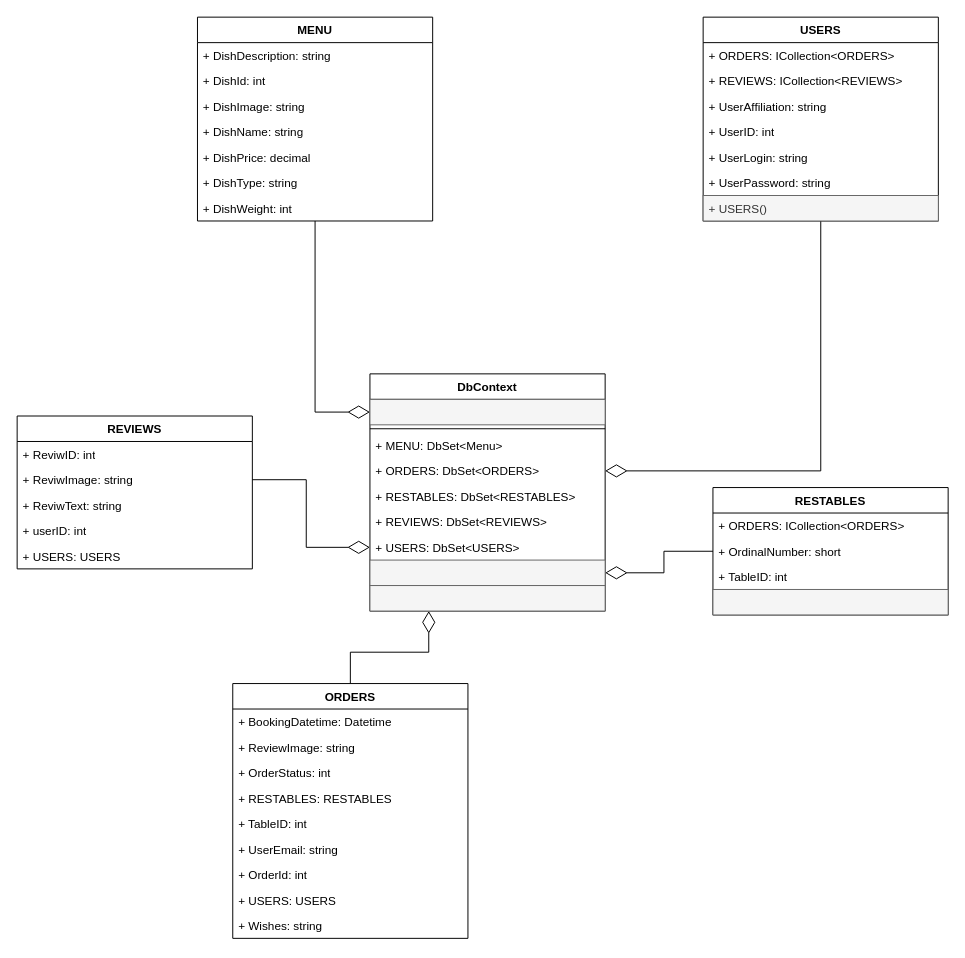
The diagram is 965 pixels wide and 958 high, and some of its shapes have lost their labels. The shapes that lost their labels are listed below. From the top down, each one's centre as x and y in pixels, then its label:
(x=487, y=411): + _context
(x=487, y=572): + GetContext()
(x=487, y=598): + OnModelCreating():void
(x=830, y=601): RESTABLES()
